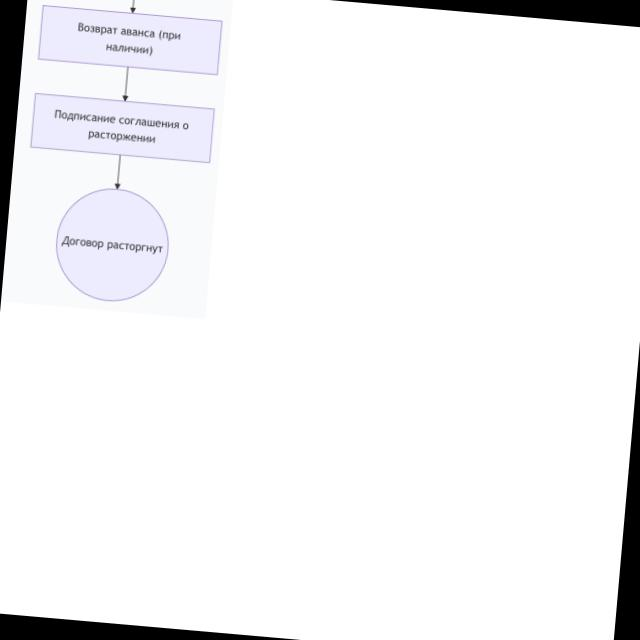arrow: (120, 66, 132, 101), (112, 155, 124, 190)
circle: (50, 184, 175, 308)
rectangle: (31, 93, 215, 164), (39, 5, 222, 74)
